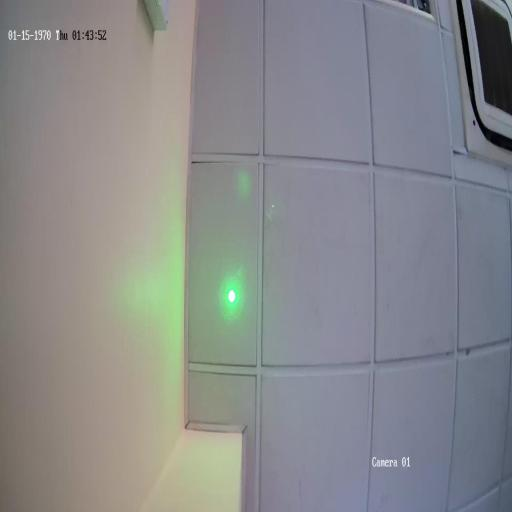laser: (225, 284, 237, 307)
